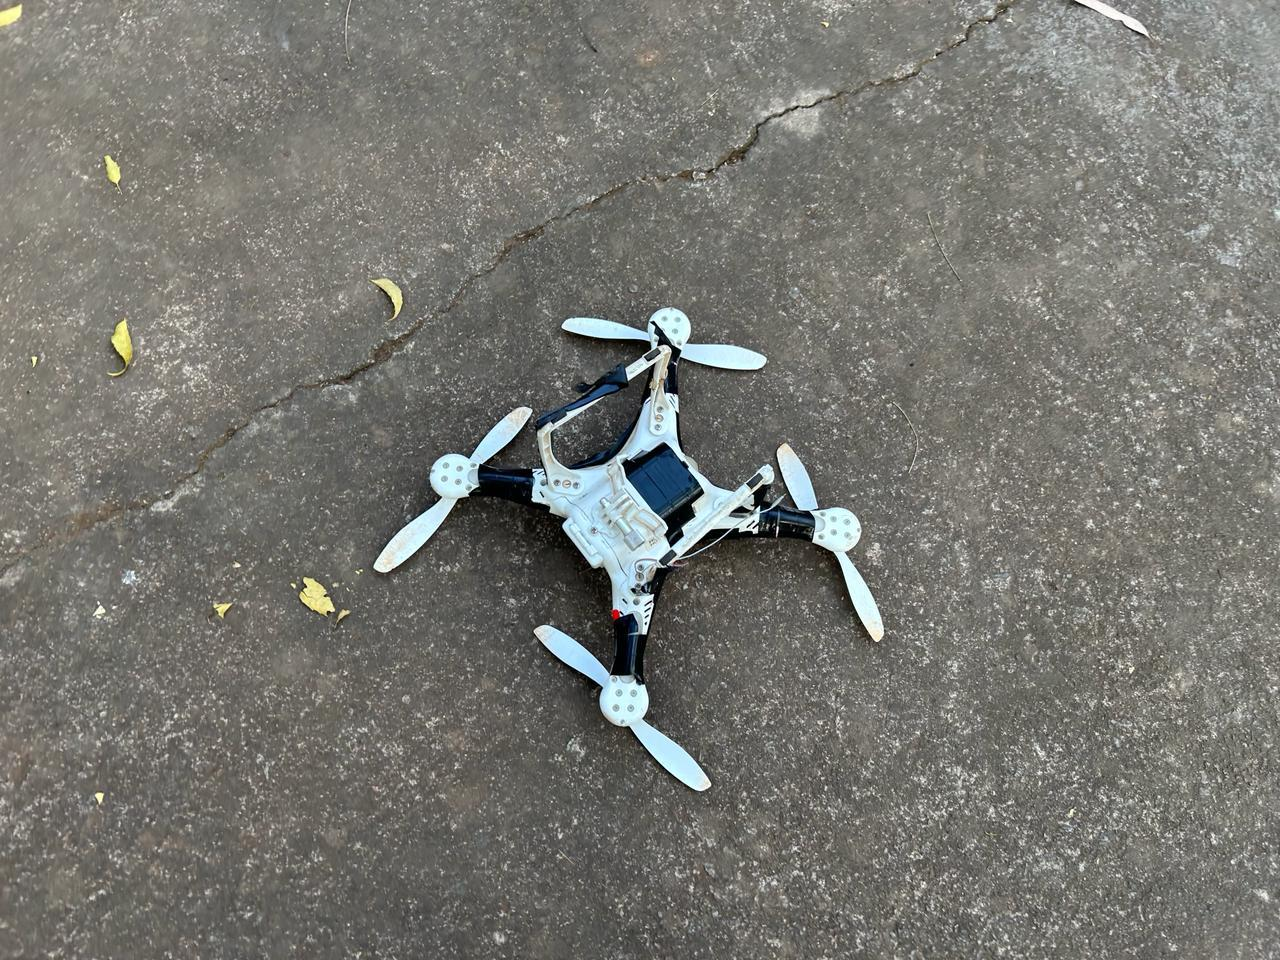drone: (361, 305, 898, 796)
